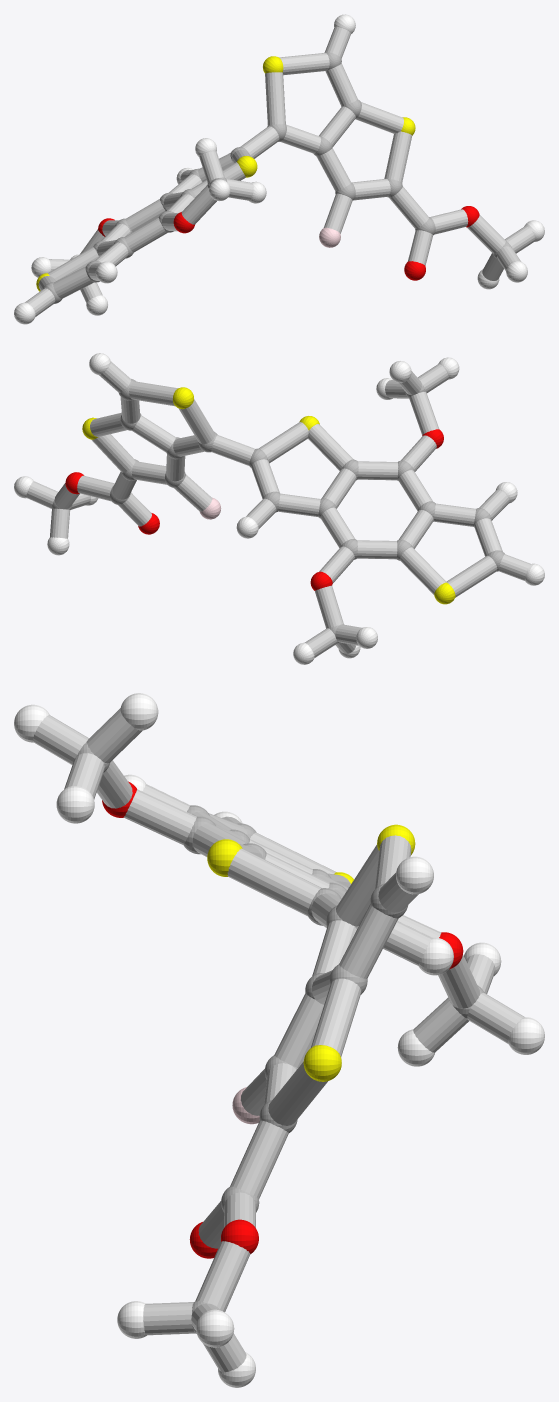
Rendered from color.glb.
The picture shows the model from 3 angles, top to bottom: view 1: azimuth 30°, elevation 25°; view 2: azimuth 150°, elevation 25°; view 3: azimuth 270°, elevation 25°; orthographic projection. The views are drawn at different scales.
Parts seen in each view (by area): view 1: grp15205, grp8689, grp1, grp13395, grp7241; view 2: grp15205, grp8689, grp1, grp7241, grp13395; view 3: grp15205, grp8689, grp1, grp7241, grp13395.
Boxes of the visible parts, x1=… form: grp15205: x1=25, y1=26, x2=535, y2=316; grp8689: x1=14, y1=14, x2=544, y2=324; grp1: x1=43, y1=52, x2=511, y2=303; grp13395: x1=98, y1=206, x2=479, y2=280; grp7241: x1=36, y1=56, x2=415, y2=291; grp15205: x1=26, y1=361, x2=530, y2=657; grp8689: x1=14, y1=353, x2=544, y2=664; grp1: x1=52, y1=379, x2=504, y2=643; grp7241: x1=82, y1=387, x2=455, y2=604; grp13395: x1=65, y1=429, x2=443, y2=590; grp15205: x1=33, y1=708, x2=524, y2=1372; grp8689: x1=14, y1=693, x2=544, y2=1387; grp1: x1=76, y1=741, x2=484, y2=1333; grp7241: x1=207, y1=824, x2=415, y2=1081; grp13395: x1=102, y1=781, x2=463, y2=1258.
Bounding box in the file's own units: 16.58 × 7.79 × 8.34.
